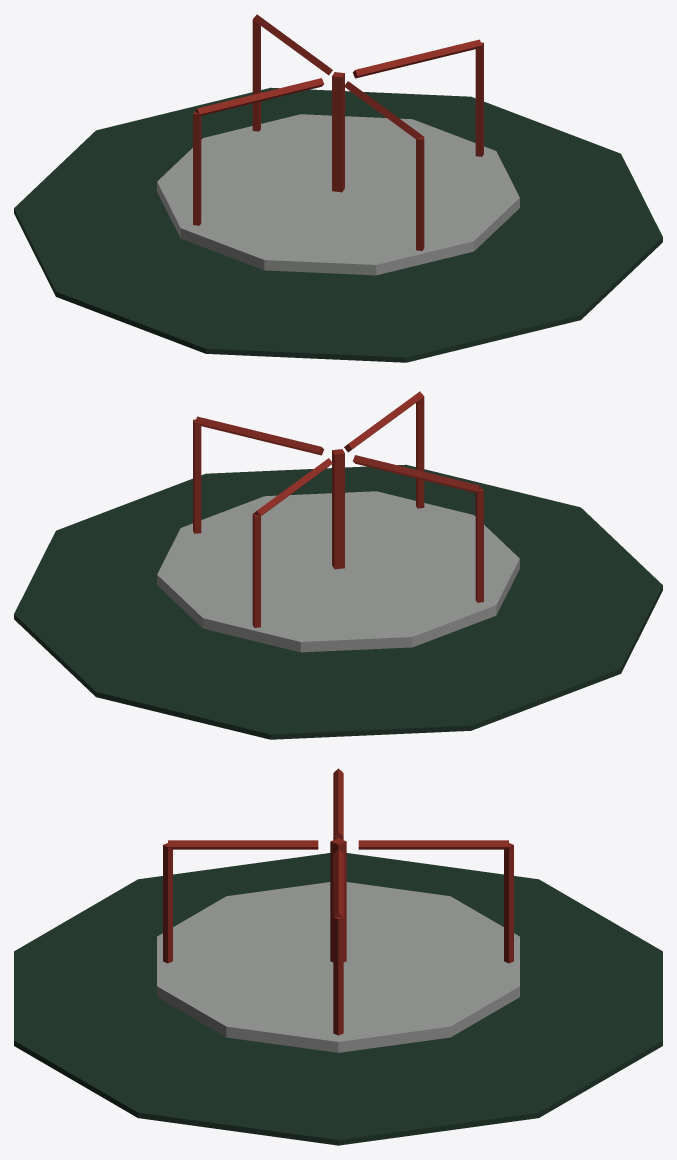
Rendered from SM_Prop_play_roundabout_0_LOD1.glb.
3 renders of one model, top to bottom at view 1: azimuth 30°, elevation 25°; view 2: azimuth 150°, elevation 25°; view 3: azimuth 270°, elevation 25°, orthographic. The views are drawn at different scales.
Visible parts, largest first — view 1: SM_Prop_play_roundabout_0_LOD1; view 2: SM_Prop_play_roundabout_0_LOD1; view 3: SM_Prop_play_roundabout_0_LOD1.
Boxes of the visible parts, x1,y1,x2,y2 form: SM_Prop_play_roundabout_0_LOD1: [14, 14, 662, 362]; SM_Prop_play_roundabout_0_LOD1: [14, 391, 662, 739]; SM_Prop_play_roundabout_0_LOD1: [14, 768, 662, 1145].
Bounding box in the file's own units: 3.4 × 0.885 × 3.23.
